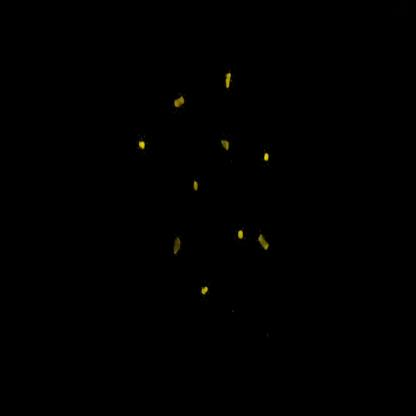PE: (121, 135, 154, 187), (190, 278, 217, 324), (234, 220, 249, 250), (260, 145, 274, 175), (188, 175, 204, 200)
PP: (220, 64, 239, 104), (170, 225, 188, 261), (257, 224, 273, 260), (172, 90, 189, 121), (219, 131, 233, 157)
